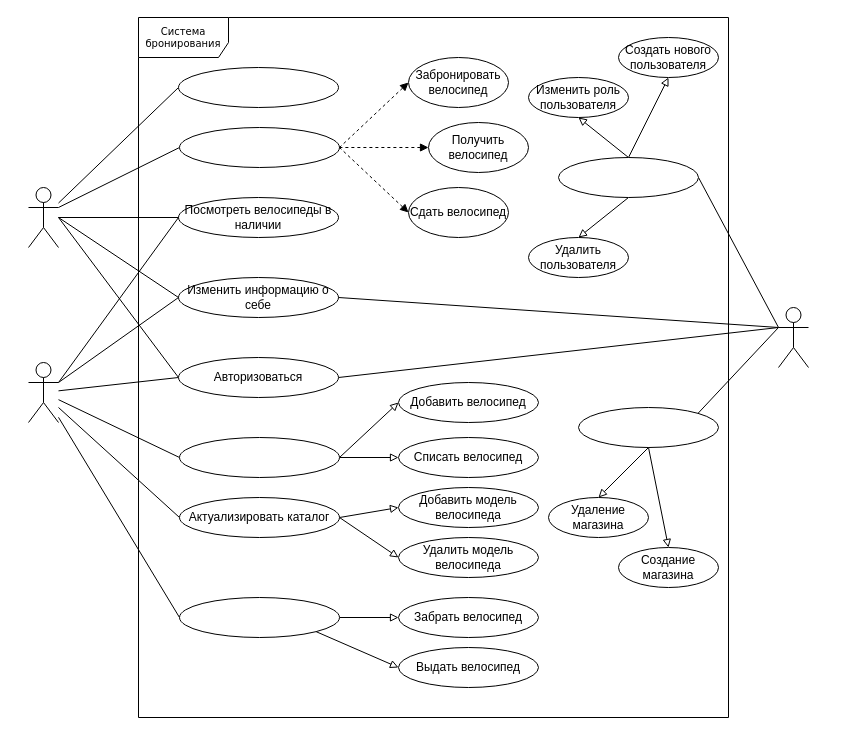
This 854x735 diagram has some shape labels left out. The centre of each missing label's shape, as x and y in pixels:
Администратор системы: the point at 793,337
Вести учет велосипедов: the point at 259,457
Взять велосипед в прокат: the point at 259,147
Зарегистрироваться: the point at 258,87
Клиент: the point at 43,217
Обслужить клиента: the point at 259,617
Работник магазина: the point at 43,392
Управлять магазинами: the point at 648,427
Управлять пользователями: the point at 628,177
